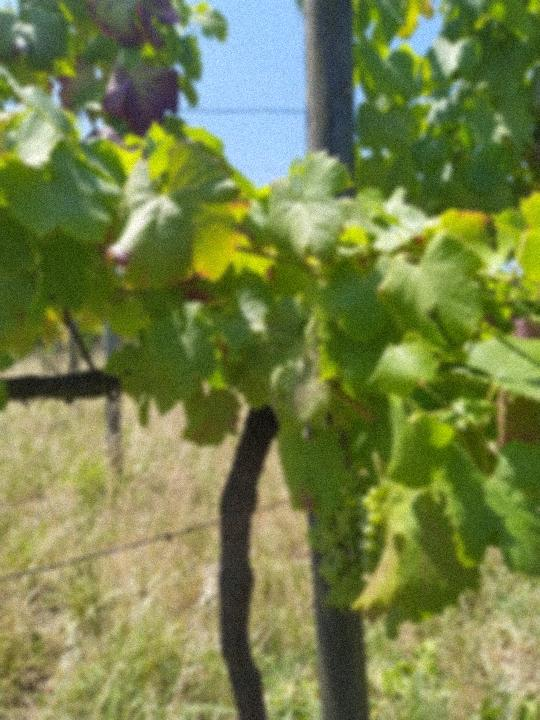grape: (300, 470, 388, 613)
